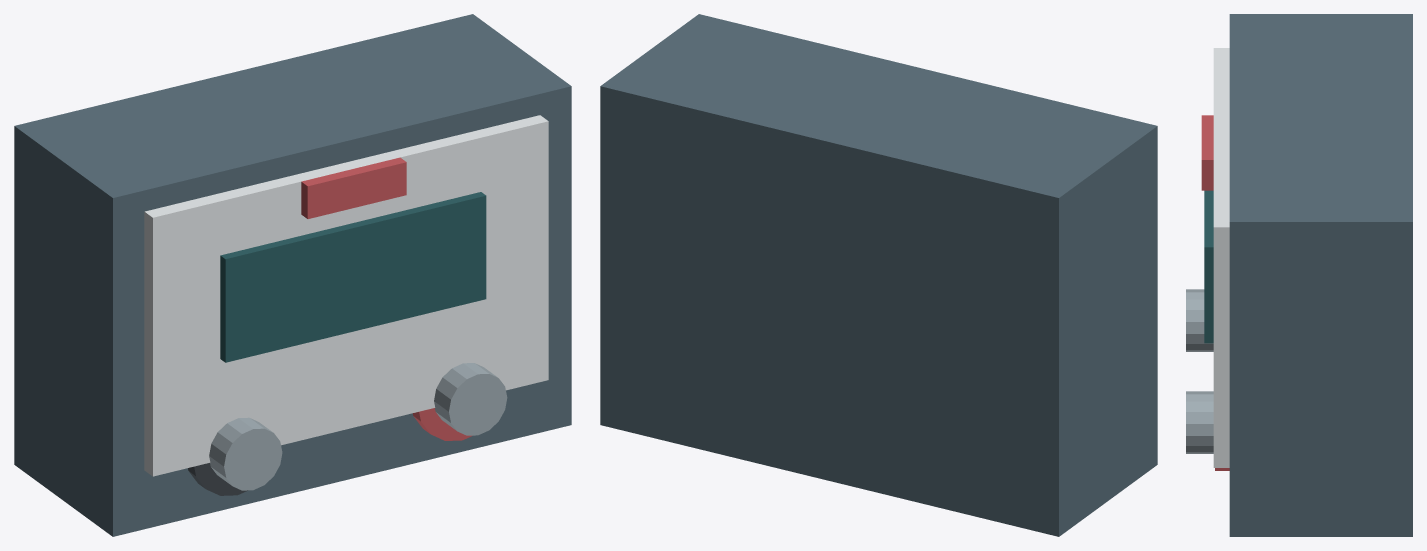
The model's file is ammeter_lod2.glb.
3 renders of one model, left to right at view 1: azimuth 30°, elevation 25°; view 2: azimuth 150°, elevation 25°; view 3: azimuth 270°, elevation 25°, orthographic. The views are drawn at different scales.
Parts seen in each view (by area): view 1: AMM_BODY_MAT_METAL_DARK, AMM_FACE_MAT_WHITE, AMM_SCREEN_MAT_EMISSIVE_SCREEN, AMM_LABEL_MAT_RED, AMM_PORT_COM_MAT_METAL_BRUSHED, AMM_PORT_INPUT_MAT_METAL_BRUSHED, AMM_PORT_COM_INS_MAT_BLACK, AMM_PORT_INPUT_INS_MAT_RED; view 2: AMM_BODY_MAT_METAL_DARK; view 3: AMM_BODY_MAT_METAL_DARK, AMM_FACE_MAT_WHITE, AMM_PORT_INPUT_MAT_METAL_BRUSHED, AMM_SCREEN_MAT_EMISSIVE_SCREEN, AMM_PORT_COM_MAT_METAL_BRUSHED, AMM_LABEL_MAT_RED.
Part boxes in pixels (left/top/right/bottom): AMM_BODY_MAT_METAL_DARK: left=14, top=14, right=571, bottom=536; AMM_FACE_MAT_WHITE: left=144, top=115, right=548, bottom=476; AMM_SCREEN_MAT_EMISSIVE_SCREEN: left=220, top=192, right=486, bottom=362; AMM_LABEL_MAT_RED: left=301, top=157, right=406, bottom=218; AMM_PORT_COM_MAT_METAL_BRUSHED: left=209, top=417, right=282, bottom=490; AMM_PORT_INPUT_MAT_METAL_BRUSHED: left=434, top=363, right=507, bottom=435; AMM_PORT_COM_INS_MAT_BLACK: left=188, top=463, right=247, bottom=495; AMM_PORT_INPUT_INS_MAT_RED: left=412, top=408, right=472, bottom=440; AMM_BODY_MAT_METAL_DARK: left=600, top=14, right=1157, bottom=536; AMM_BODY_MAT_METAL_DARK: left=1229, top=14, right=1412, bottom=536; AMM_FACE_MAT_WHITE: left=1213, top=48, right=1229, bottom=467; AMM_PORT_INPUT_MAT_METAL_BRUSHED: left=1186, top=391, right=1213, bottom=453; AMM_SCREEN_MAT_EMISSIVE_SCREEN: left=1204, top=190, right=1213, bottom=343; AMM_PORT_COM_MAT_METAL_BRUSHED: left=1186, top=289, right=1213, bottom=351; AMM_LABEL_MAT_RED: left=1201, top=115, right=1213, bottom=190.
Size of the model in its own units: 1.02 by 0.72 by 0.47.
